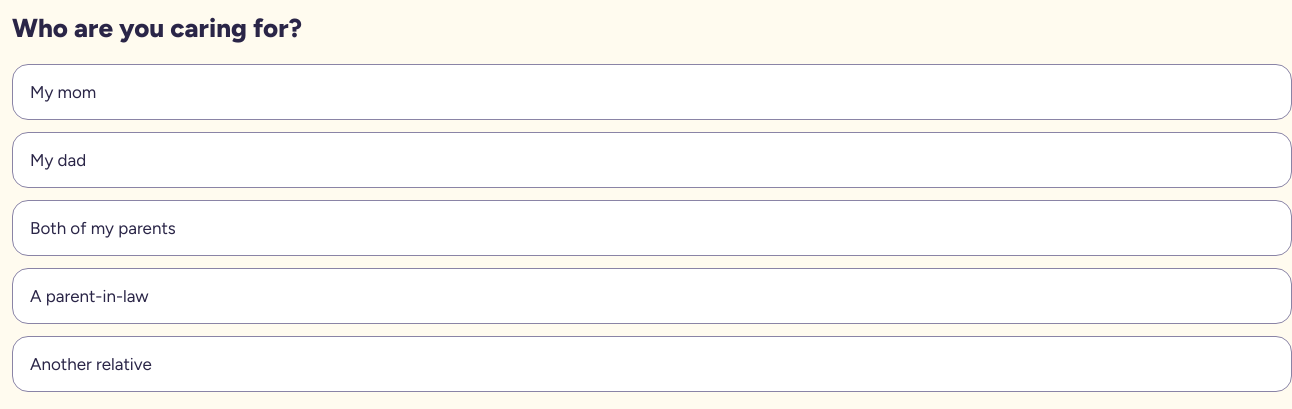
Test: SingleChoice › moves with arrow keys inside the radio group
Click the radio button labelled "My mom" at (63, 92), box [12,64,1291,120]
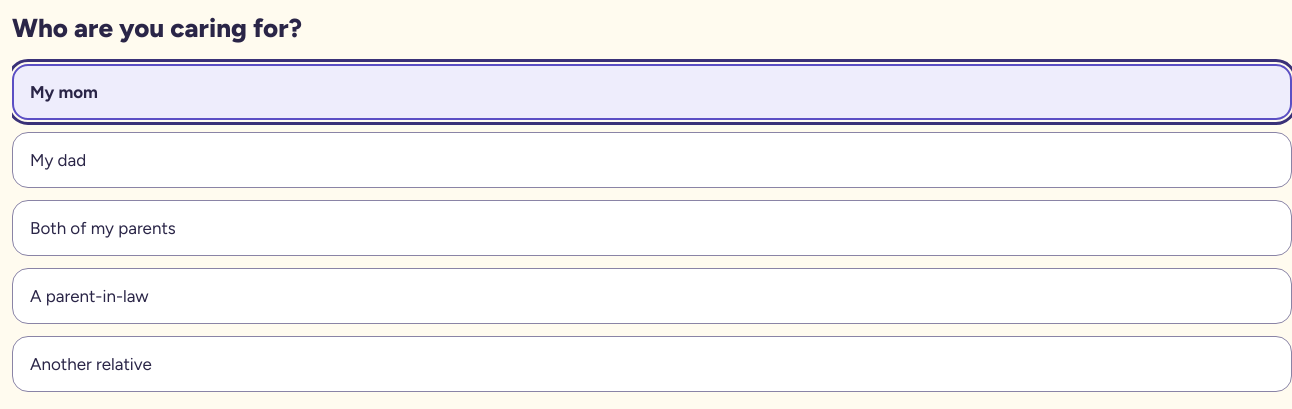
Press Arrowdown
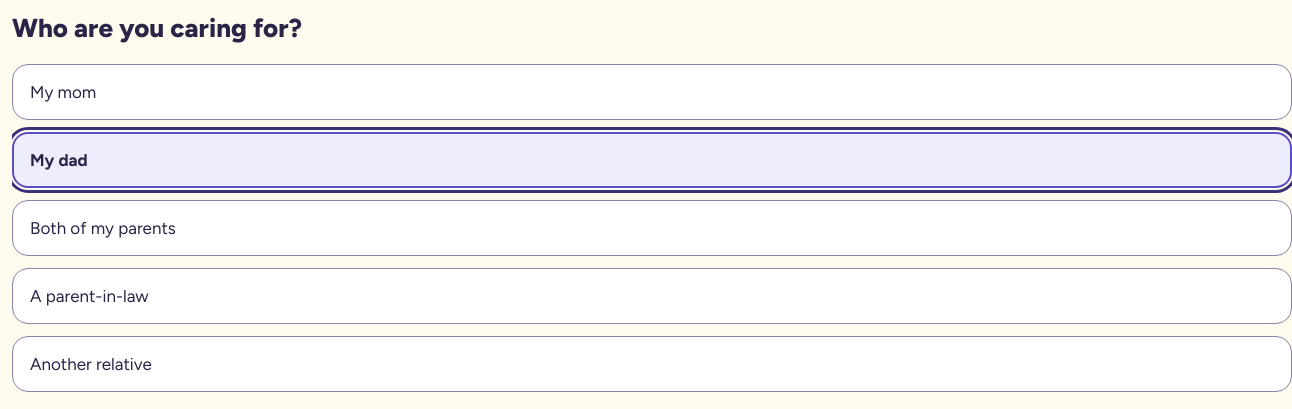
Check: the radio button labelled "My dad" is checked, box [12,132,1291,188]
